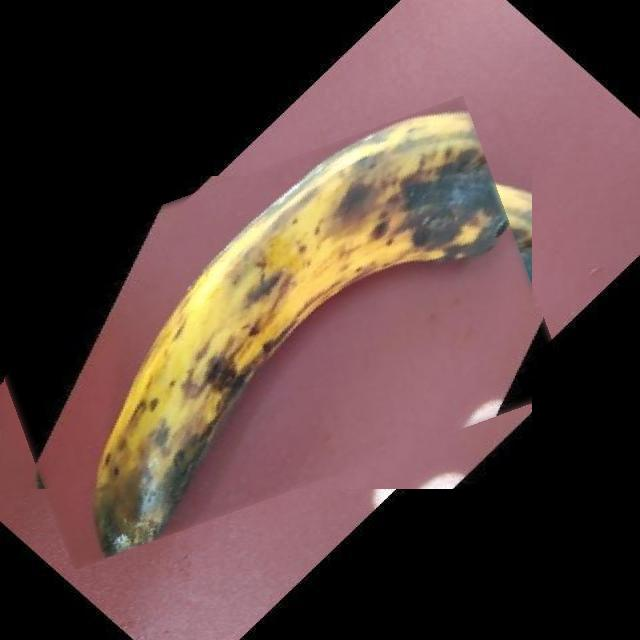Execivamente Madura: (0, 135, 550, 529)
